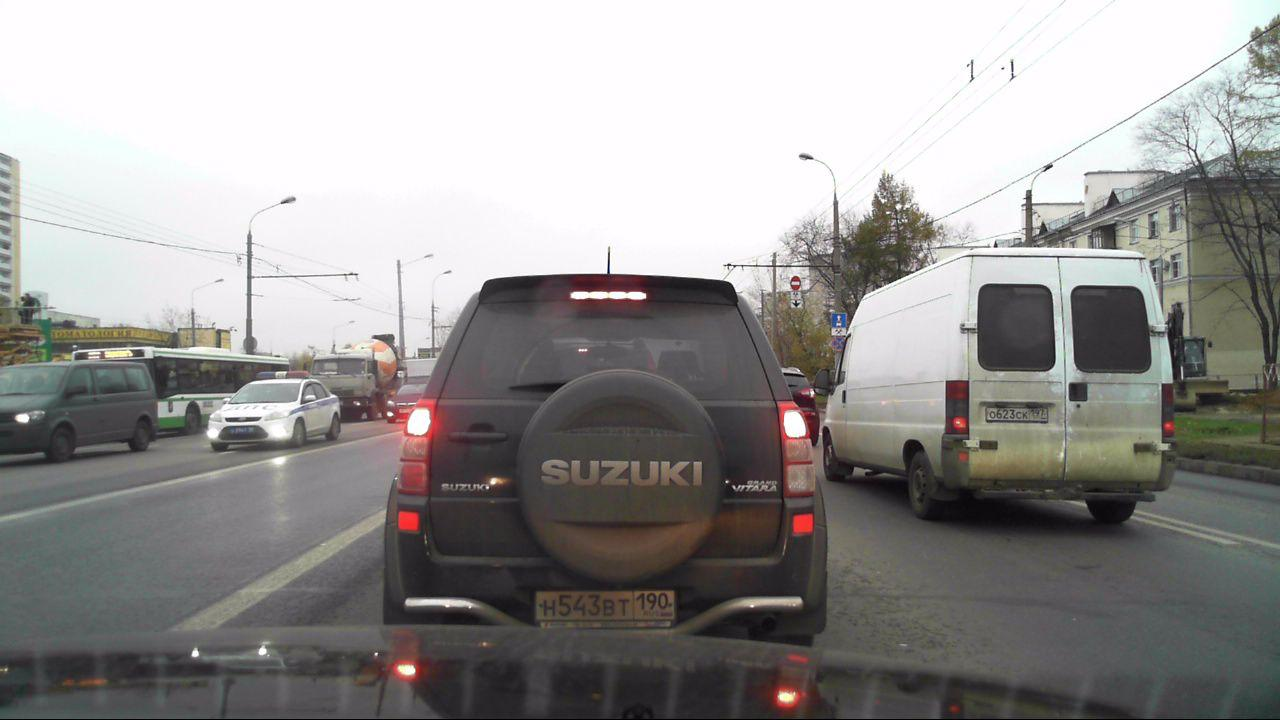3_1: (790, 276, 801, 291)
3_27: (831, 337, 846, 351)
5_14_1: (831, 309, 848, 326)
8_14: (790, 301, 803, 309)
8_5_2: (831, 327, 847, 336), (791, 292, 801, 300)
